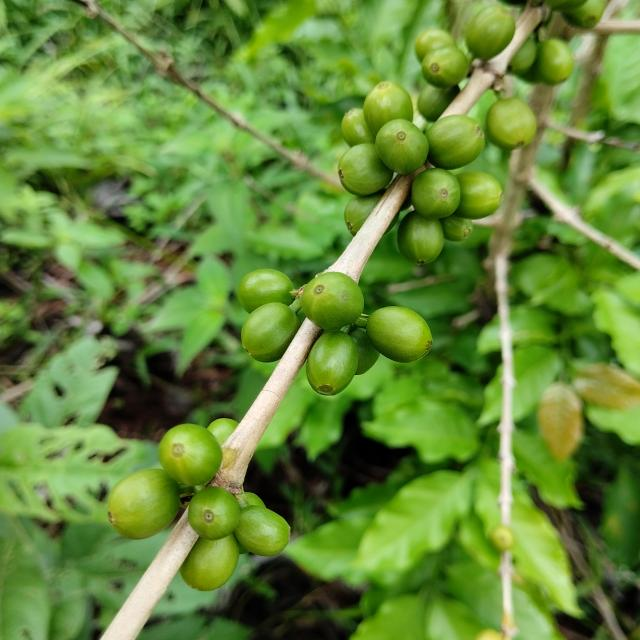green: (107, 469, 180, 540), (158, 424, 222, 486), (366, 306, 433, 363), (301, 272, 364, 330), (241, 302, 301, 362), (179, 535, 239, 592), (307, 330, 358, 396), (426, 114, 486, 169), (375, 119, 429, 174), (339, 143, 393, 196), (234, 506, 290, 557), (188, 487, 240, 541), (363, 80, 414, 135), (466, 5, 516, 60), (487, 97, 538, 149), (398, 210, 445, 265), (238, 269, 294, 313), (412, 168, 461, 218), (455, 171, 503, 219), (422, 45, 469, 87), (344, 189, 385, 236), (418, 84, 460, 121), (349, 328, 380, 375), (342, 108, 376, 147), (440, 214, 474, 241), (207, 419, 238, 446), (244, 493, 266, 508), (386, 212, 399, 233)
